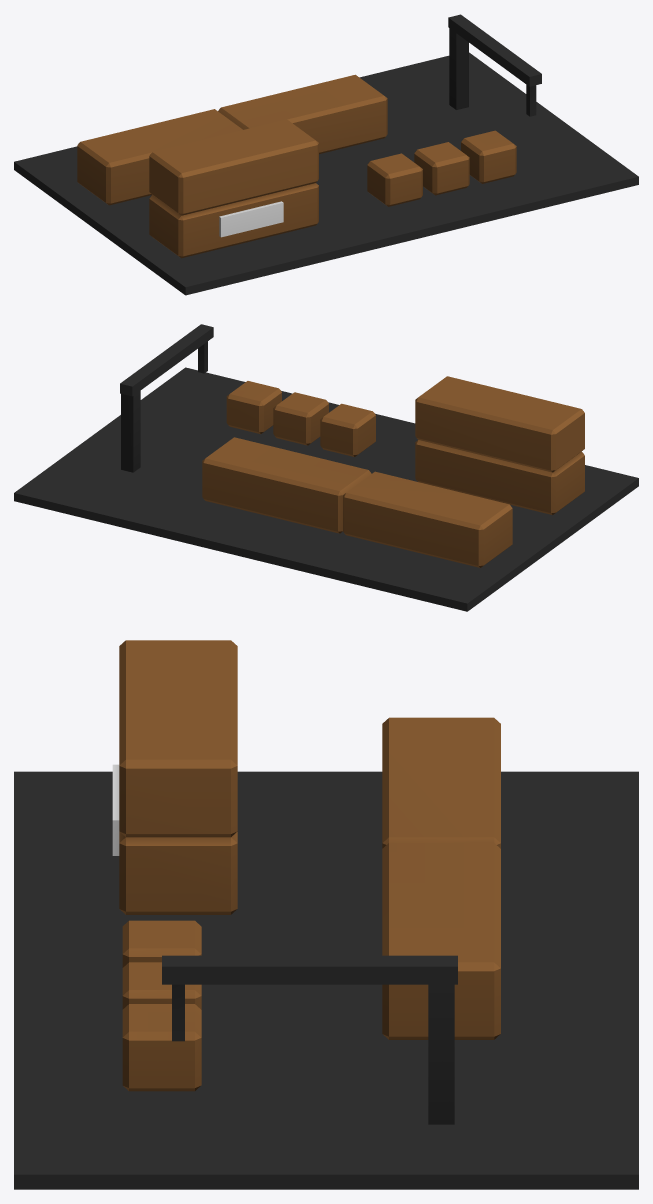
Rendered from port-depot.glb.
The picture shows the model from 3 angles, top to bottom: view 1: azimuth 30°, elevation 25°; view 2: azimuth 150°, elevation 25°; view 3: azimuth 270°, elevation 25°; orthographic projection. The views are drawn at different scales.
Visible parts, largest first — view 1: port-depot; view 2: port-depot; view 3: port-depot.
Part boxes in pixels (x1,y1,x2,y2): port-depot: (14,14,638,295); port-depot: (14,324,638,611); port-depot: (14,640,638,1189).
Size of the model in its own units: 2.9 by 0.58 by 1.9.
